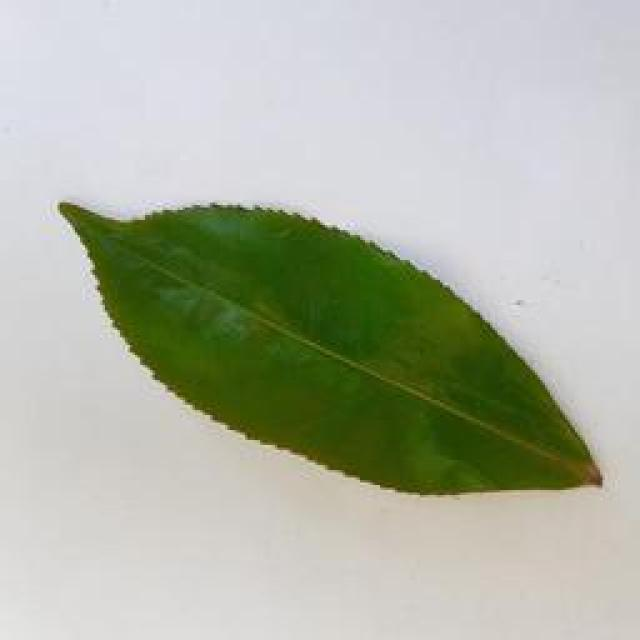Healthy: (47, 170, 607, 504)
